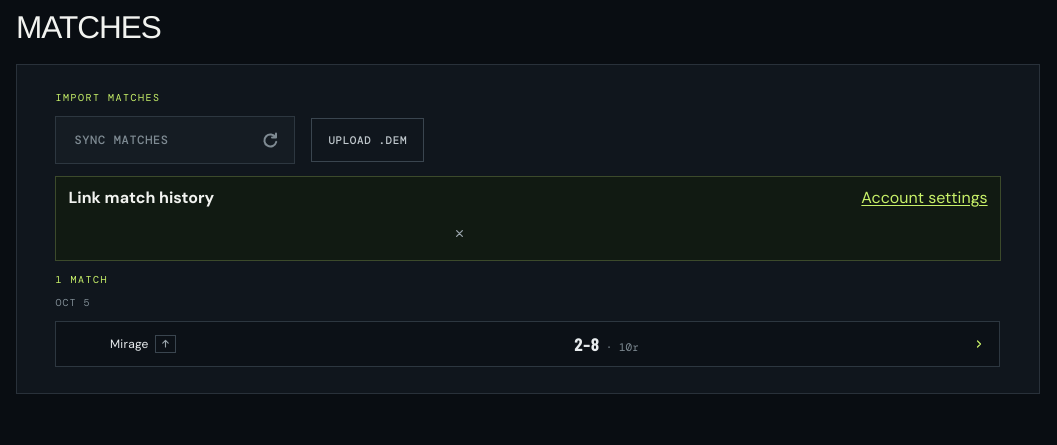
it: match list and per-round report (real API response shapes) › blames our server, not Valve, when the API itself cannot be reached
The image size is (1057, 445).
Click the button "Mirage 2–8 · 10r" at (130, 344), box x1=55 y1=321 x2=1001 y2=367
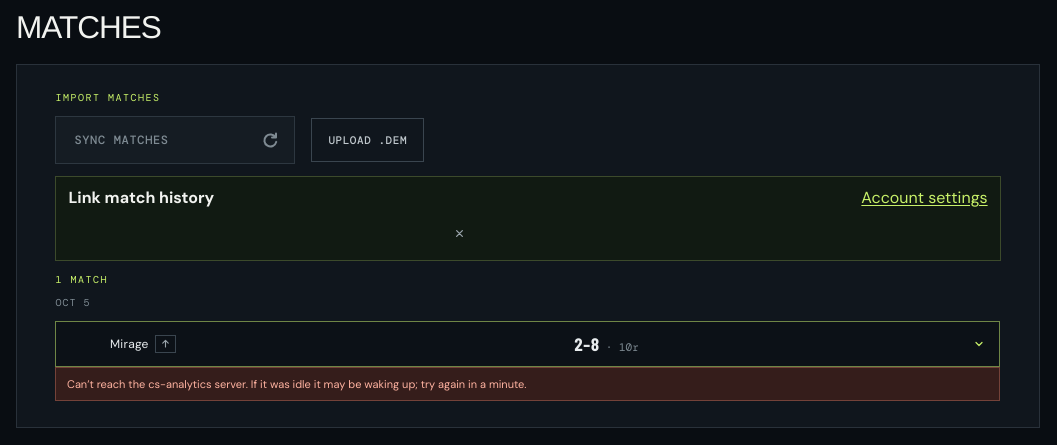
Check: the message does not show "Valve", box x1=55 y1=367 x2=1001 y2=401
Check: the message shows "Can’t reach the cs-analytics server.", box x1=67 y1=377 x2=527 y2=391
